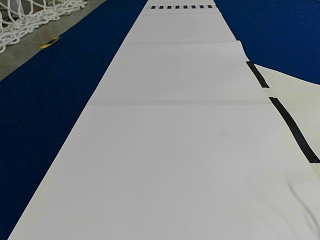crosswalk: (152, 3, 211, 9)
